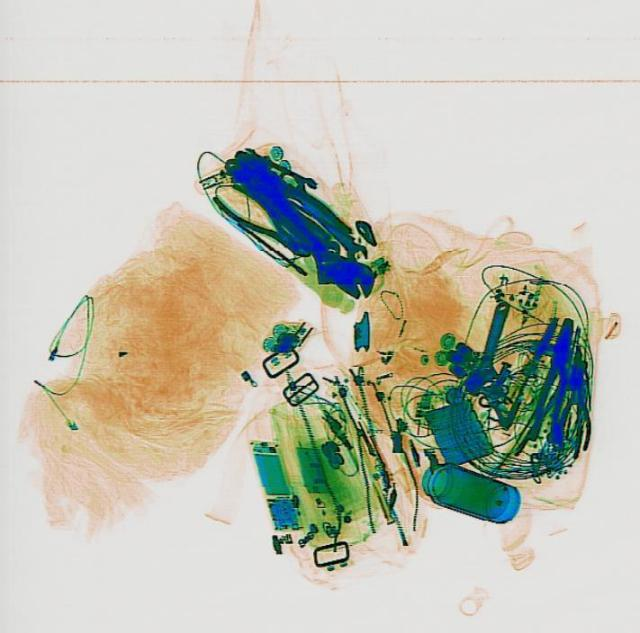Pliers: (207, 174, 315, 268), (524, 315, 584, 444), (554, 357, 598, 451)
Wrench: (208, 144, 386, 312), (287, 182, 369, 266), (457, 295, 519, 400)
